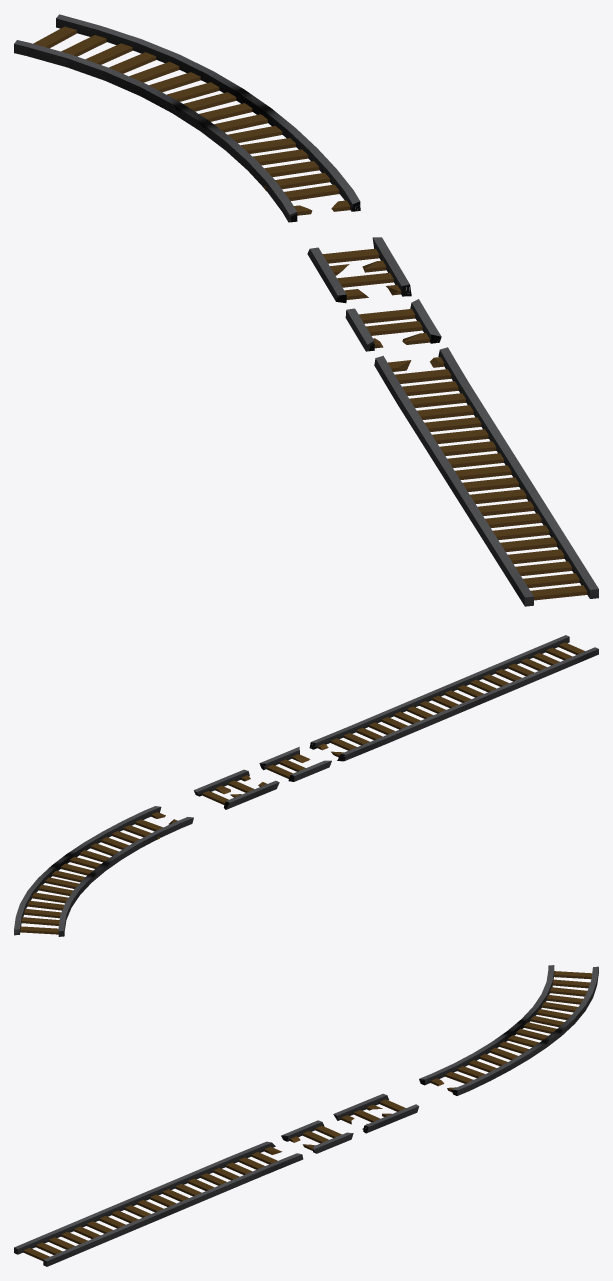
File: Mina_Trilhos_2.fbx
3 renders of one model, top to bottom at view 1: azimuth 30°, elevation 25°; view 2: azimuth 150°, elevation 25°; view 3: azimuth 330°, elevation 25°, orthographic. The views are drawn at different scales.
Parts seen in each view (by area): view 1: Trilho; view 2: Trilho; view 3: Trilho.
Boxes of the visible parts, left/top/right/bottom form: Trilho: left=14, top=14, right=598, bottom=606; Trilho: left=14, top=635, right=598, bottom=936; Trilho: left=14, top=965, right=598, bottom=1266.
Size of the model in its own units: 3401 by 99.27 by 13702.
2 materials, 1 textured.
